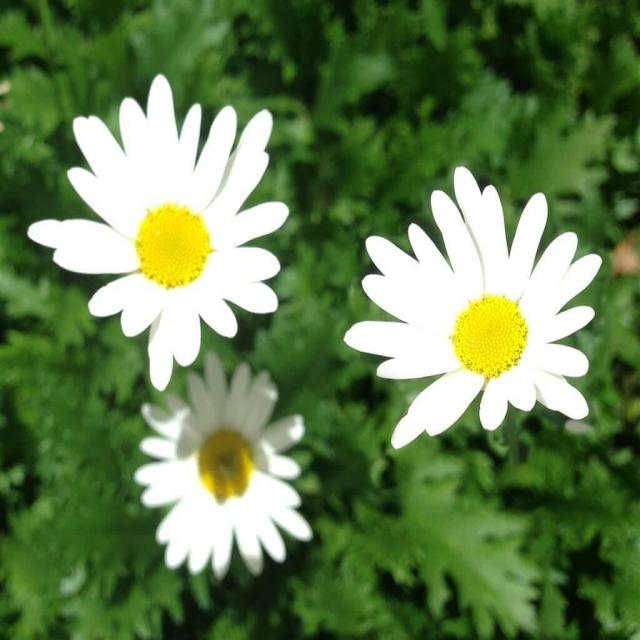organic waste: (39, 79, 285, 371), (351, 170, 605, 433), (120, 363, 321, 575)
